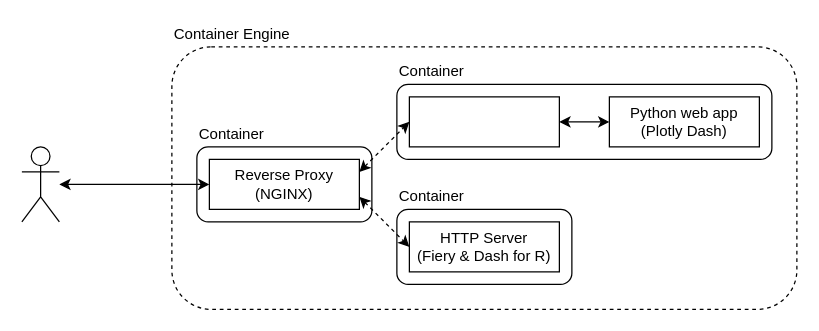
Image size: 819x331. Some labels were removed from this diagram. The centre of each missing label's shape, as x and y in pixels:
"Actor" belongs at [40,184].
"WSGI HTTP Server (Gunicorn)" belongs at [483,121].
